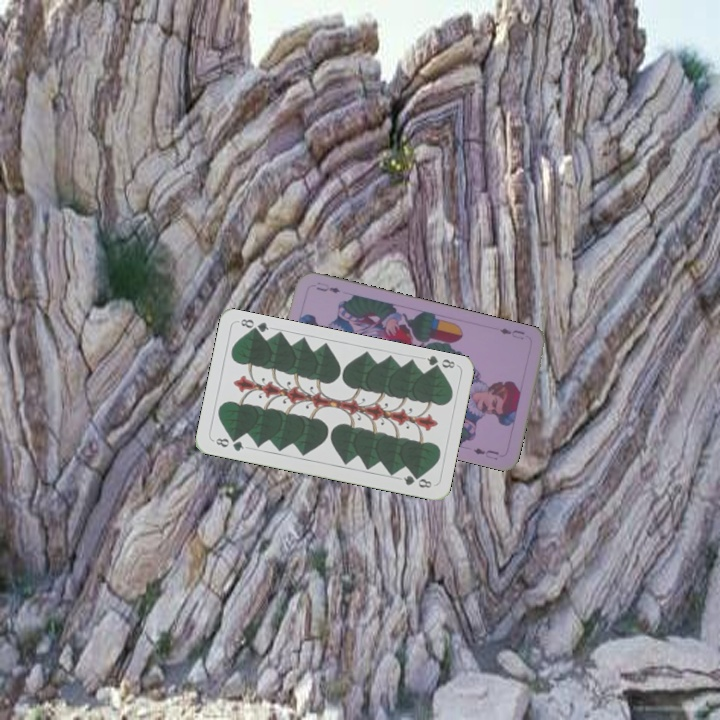EU: (496, 324, 527, 342)
G8: (423, 352, 457, 374), (212, 434, 246, 454)
